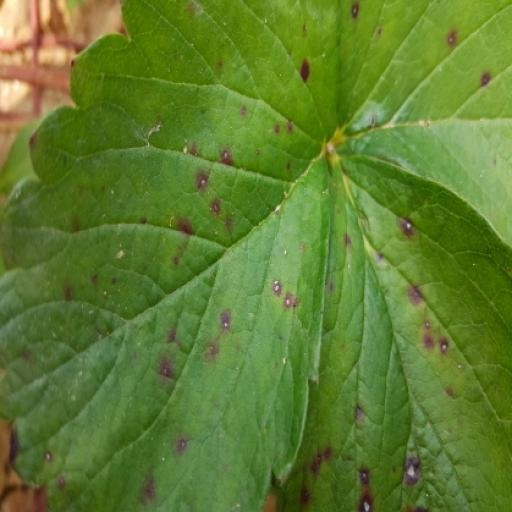Leaf Spot: (172, 0, 511, 511), (0, 156, 240, 511)
